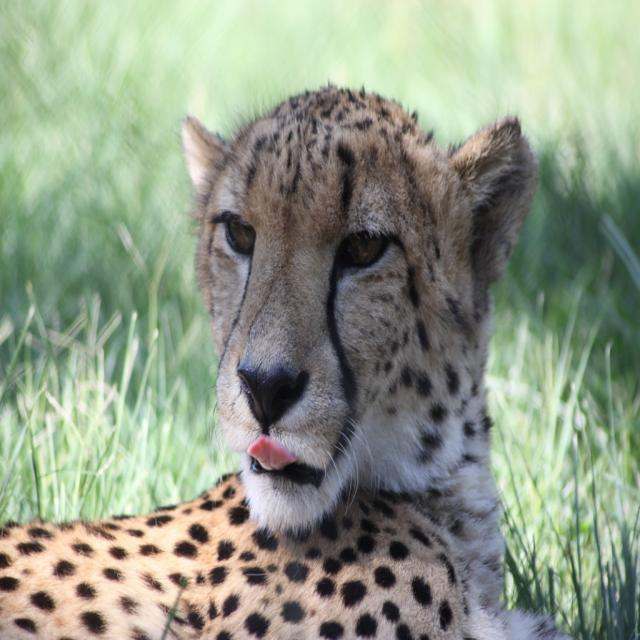Cheetah: (0, 77, 569, 639)
